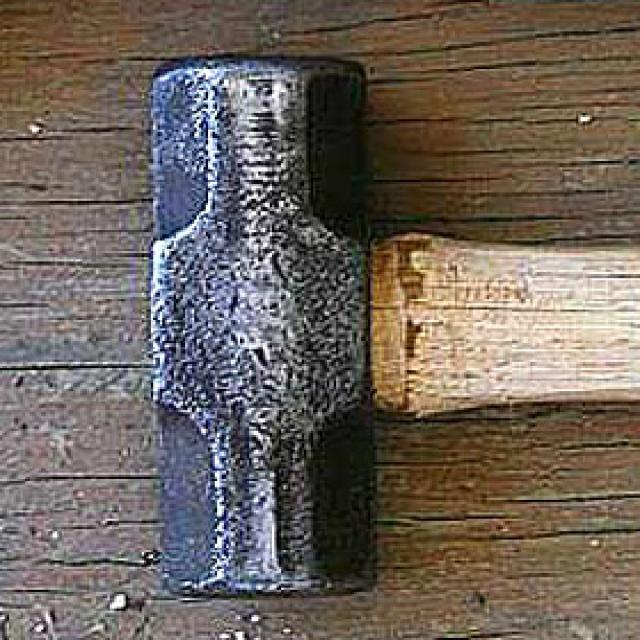hammer: (121, 36, 640, 616)
